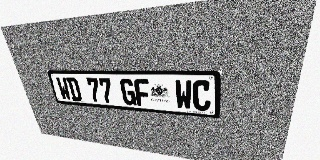7: (97, 78, 115, 104), (85, 78, 102, 103)
C: (192, 80, 211, 111)
D: (66, 77, 83, 101)
F: (134, 79, 151, 107)
G: (119, 78, 137, 106)
W: (174, 80, 192, 110), (55, 77, 72, 100)
